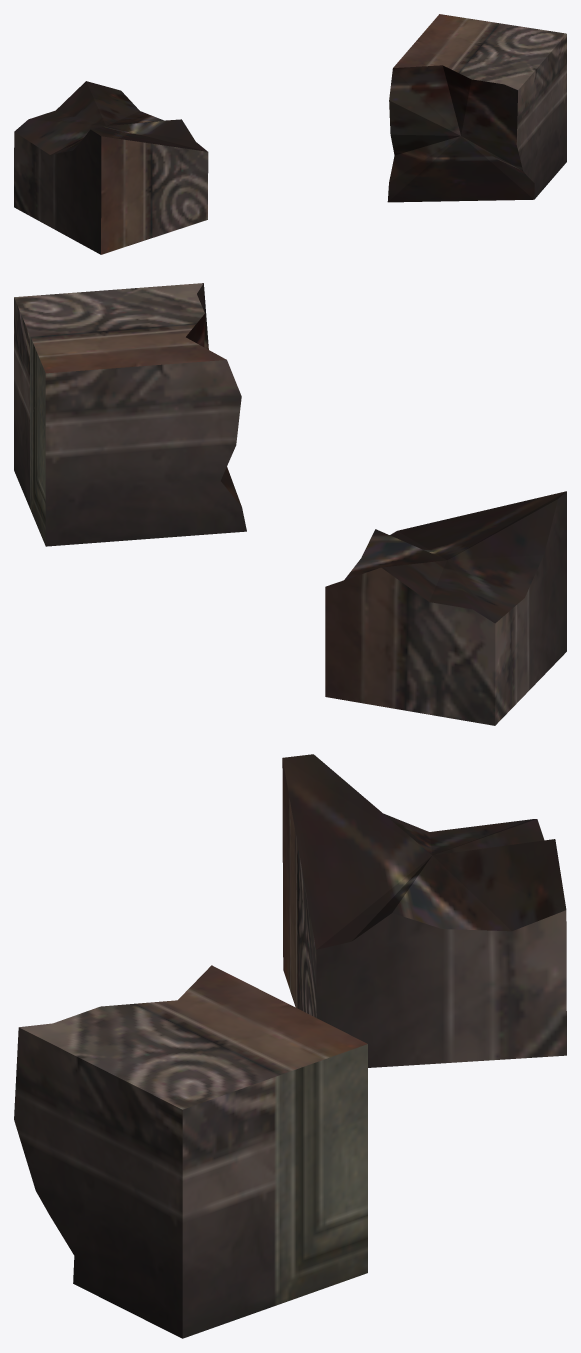
Rendered from blsd_zhuzi_10.FBX.
3 views of the same model, one above another, from view 1: azimuth 30°, elevation 25°; view 2: azimuth 150°, elevation 25°; view 3: azimuth 270°, elevation 25° (orthographic). The views are drawn at different scales.
Parts seen in each view (by area): view 1: blsd_zhuzi_10; view 2: blsd_zhuzi_10; view 3: blsd_zhuzi_10.
Boxes of the visible parts, bbox=[...] form: blsd_zhuzi_10: bbox=[14, 14, 566, 254]; blsd_zhuzi_10: bbox=[14, 283, 566, 725]; blsd_zhuzi_10: bbox=[14, 754, 566, 1338].
Bounding box in the file's own units: 220 × 130 × 62.5.
